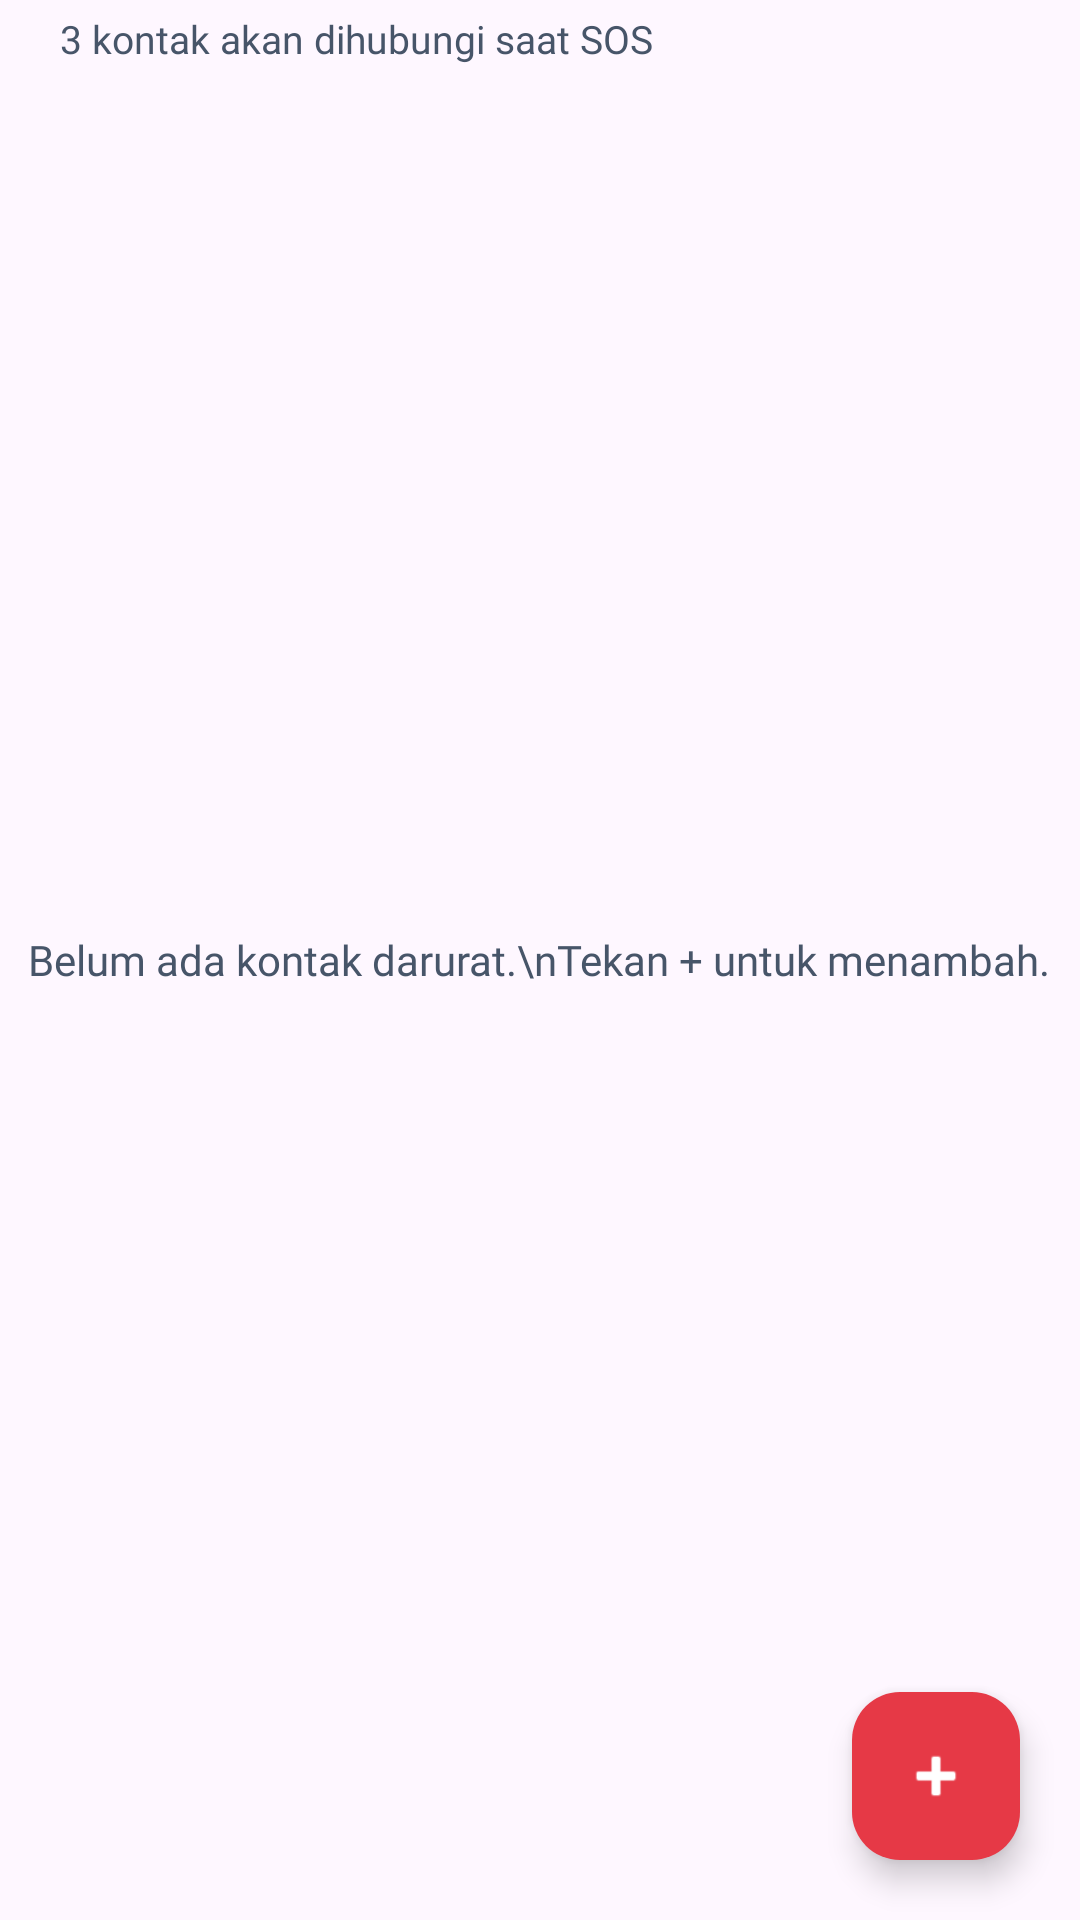

Locate icon controls on the screen. Image size 1080px x 1920px, boxes as (x1=x1, y1=y1, x2=x2, y2=y2).
Tambah kontak: (x1=852, y1=1692, x2=1020, y2=1860)
